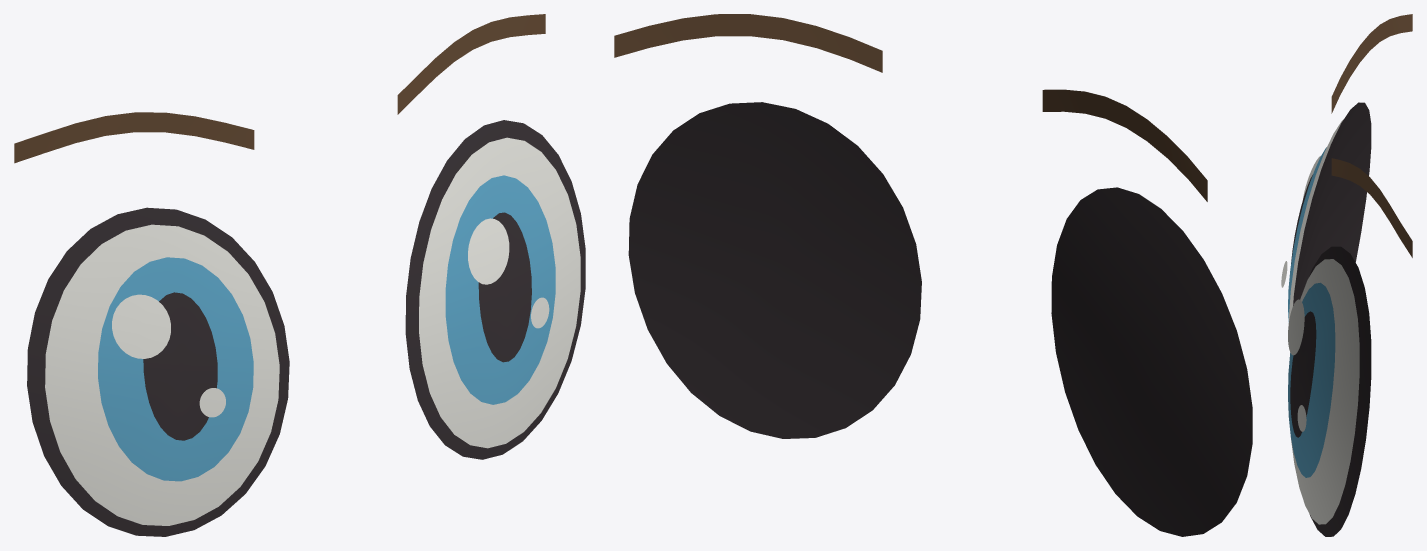
File: classic.glb
The picture shows the model from 3 angles, left to right: view 1: azimuth 30°, elevation 25°; view 2: azimuth 150°, elevation 25°; view 3: azimuth 270°, elevation 25°; orthographic projection. The views are drawn at different scales.
Visible parts, largest first — view 1: eye_white (×2), blue_iris (×2), eye_outline (×2), pupil (×2), brow (×2), eye_glint (×2); view 2: eye_outline (×2), brow (×2); view 3: eye_outline (×2), eye_white (×2), blue_iris (×2), brow (×2), pupil, eye_glint, eye_glint_small.
Boxes of the visible parts, x1=… form: eye_white (×2): x1=45, y1=137, x2=580, y2=525; blue_iris (×2): x1=98, y1=175, x2=555, y2=481; eye_outline (×2): x1=27, y1=120, x2=585, y2=536; pupil (×2): x1=143, y1=212, x2=531, y2=440; brow (×2): x1=14, y1=14, x2=545, y2=163; eye_glint (×2): x1=112, y1=218, x2=509, y2=358; eye_outline (×2): x1=628, y1=102, x2=1252, y2=536; brow (×2): x1=614, y1=14, x2=1207, y2=201; eye_outline (×2): x1=1293, y1=102, x2=1371, y2=536; eye_white (×2): x1=1289, y1=119, x2=1359, y2=524; blue_iris (×2): x1=1288, y1=147, x2=1335, y2=477; brow (×2): x1=1331, y1=14, x2=1412, y2=257; pupil: x1=1290, y1=311, x2=1316, y2=437; eye_glint: x1=1288, y1=299, x2=1304, y2=355; eye_glint_small: x1=1297, y1=405, x2=1306, y2=431.
Bounding box in the file's own units: 0.53 × 0.365 × 0.1231.
